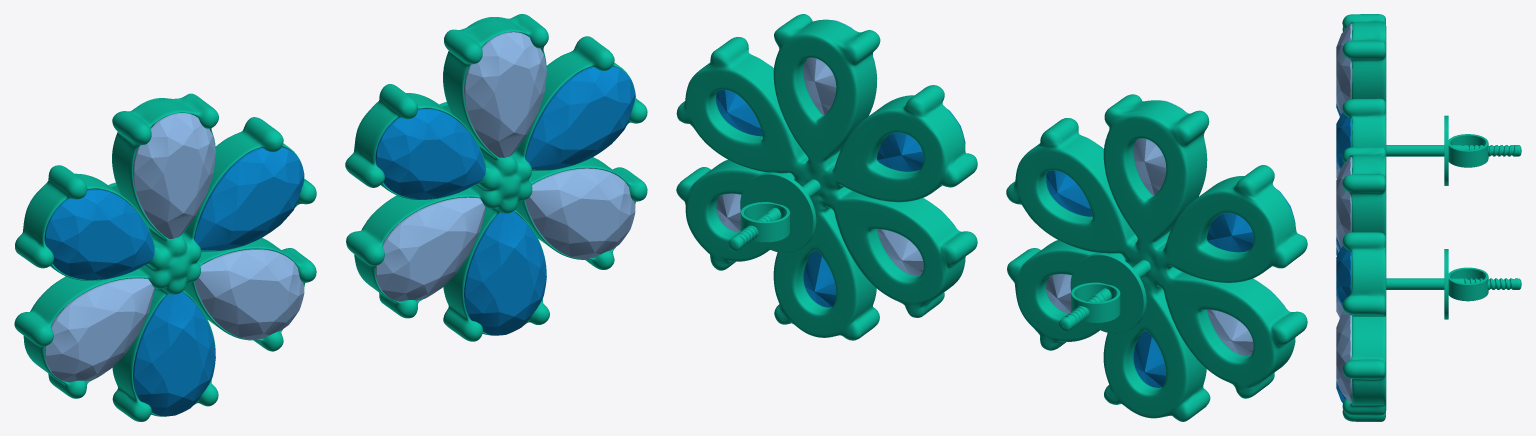
3 views of the same model, side by side, from view 1: azimuth 30°, elevation 25°; view 2: azimuth 150°, elevation 25°; view 3: azimuth 270°, elevation 25° (orthographic). The views are drawn at different scales.
Visible parts, largest first — view 1: Diamond_Pear (×12), for render.3dm; view 2: for render.3dm, Diamond_Pear (×12); view 3: for render.3dm, Diamond_Pear (×5).
Part boxes in pixels (x1,y1,x2,y2): Diamond_Pear (×12): (44,32,635,416); for render.3dm: (14,14,647,421); for render.3dm: (676,14,1307,421); Diamond_Pear (×12): (716,20,1295,387); for render.3dm: (1342,14,1521,421); Diamond_Pear (×5): (1336,23,1352,402).
Size of the model in its own units: 3.48 by 1.64 by 1.1.
